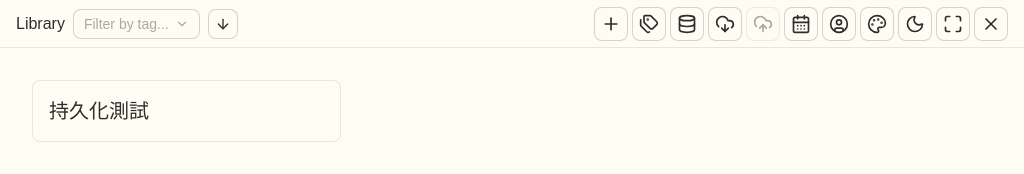
it: Text Persistence Integration › opens text from library and renders reading view with content
This screenshot has width=1024, height=174.
Expected: the heading "持久化測試" is shown, [49,97,149,125]
Step 1. Click the button "持久化測試" → click(99, 111), box [32,80,341,142]
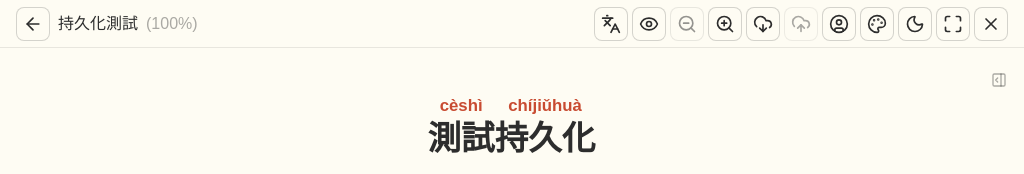
Now the text "測試" is shown, box [428,120,495,157]
Now the text "持久化" is shown, box [495,120,596,157]
